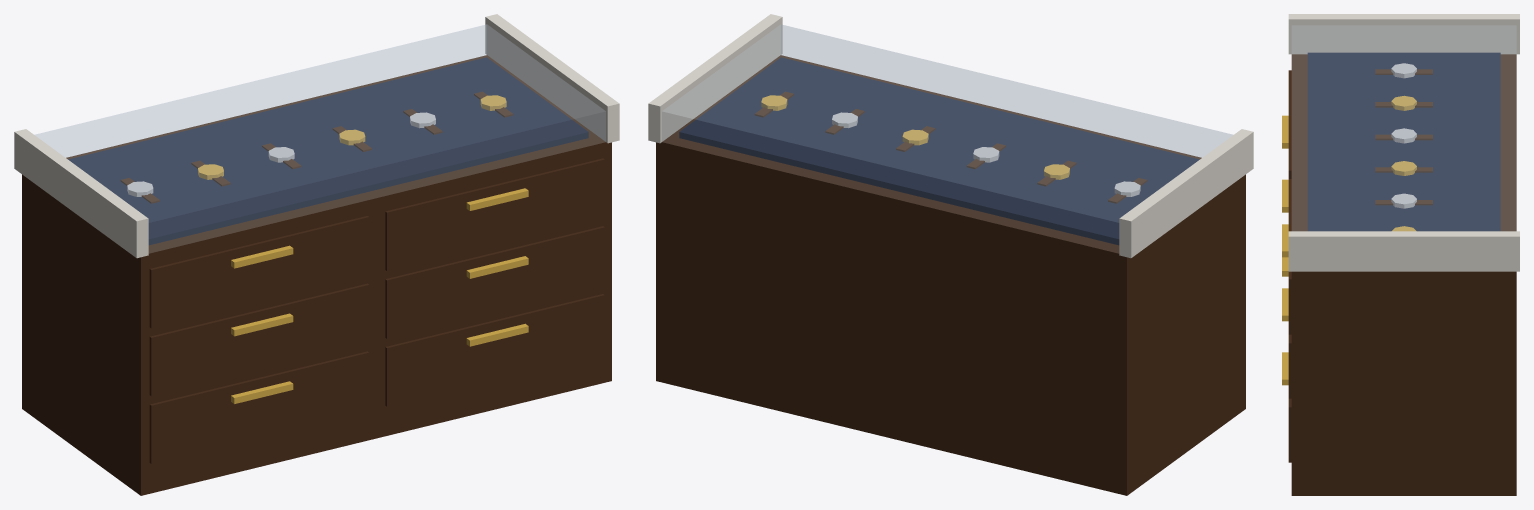
Rendered from dressing_island.glb.
3 renders of one model, left to right at view 1: azimuth 30°, elevation 25°; view 2: azimuth 150°, elevation 25°; view 3: azimuth 270°, elevation 25°, orthographic. The views are drawn at different scales.
Parts seen in each view (by area): view 1: dressing_island; view 2: dressing_island; view 3: dressing_island.
Part boxes in pixels (left/top/right/bottom): dressing_island: left=14, top=14, right=619, bottom=495; dressing_island: left=648, top=14, right=1253, bottom=495; dressing_island: left=1282, top=14, right=1519, bottom=495.
Bounding box in the file's own units: 1.64 × 0.9 × 0.74.
